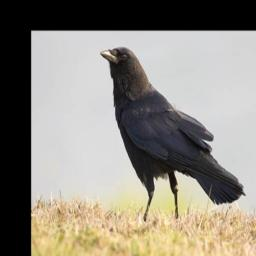Crow: (98, 46, 245, 223)
